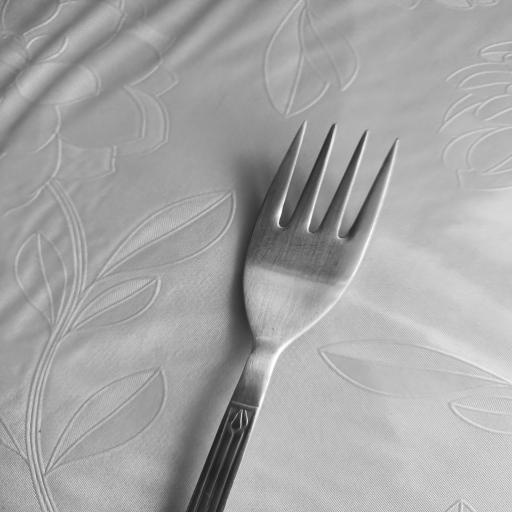fork: (181, 120, 403, 512)
